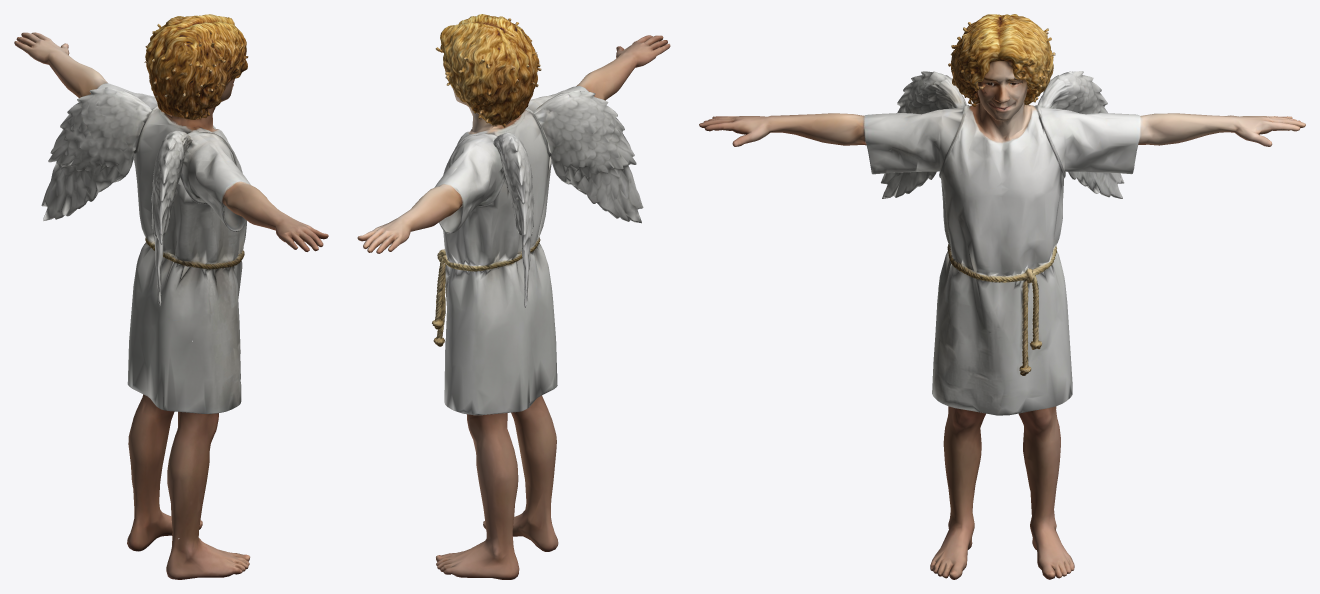
File: the-angel.glb
The picture shows the model from 3 angles, left to right: view 1: azimuth 30°, elevation 25°; view 2: azimuth 150°, elevation 25°; view 3: azimuth 270°, elevation 25°; orthographic projection. The views are drawn at different scales.
Visible parts, largest first — view 1: 07-angel; view 2: 07-angel; view 3: 07-angel.
Boxes of the visible parts, x1,y1,x2,y2 form: 07-angel: [14, 14, 328, 579]; 07-angel: [357, 14, 670, 579]; 07-angel: [699, 14, 1305, 579].
Size of the model in its own units: 0.2689 by 0.9795 by 0.9787.
Materials: 1 (1 with a texture image).
